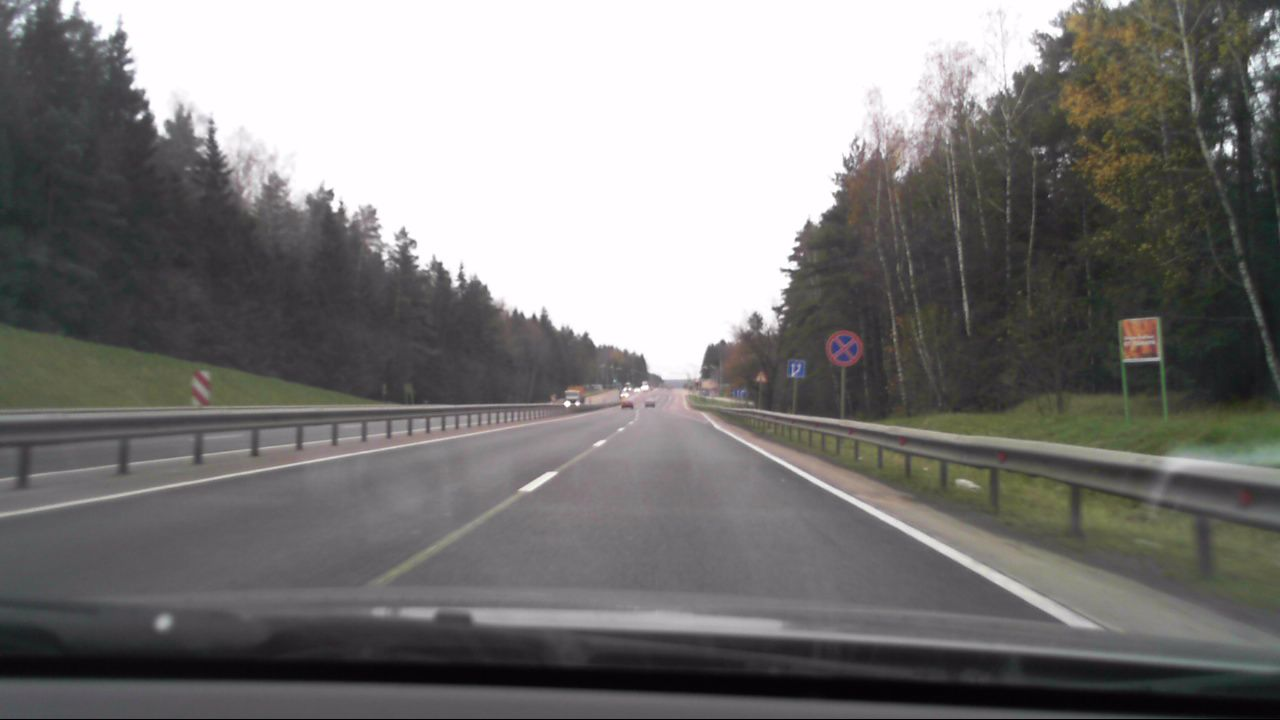No Parking: (825, 329, 862, 369)
